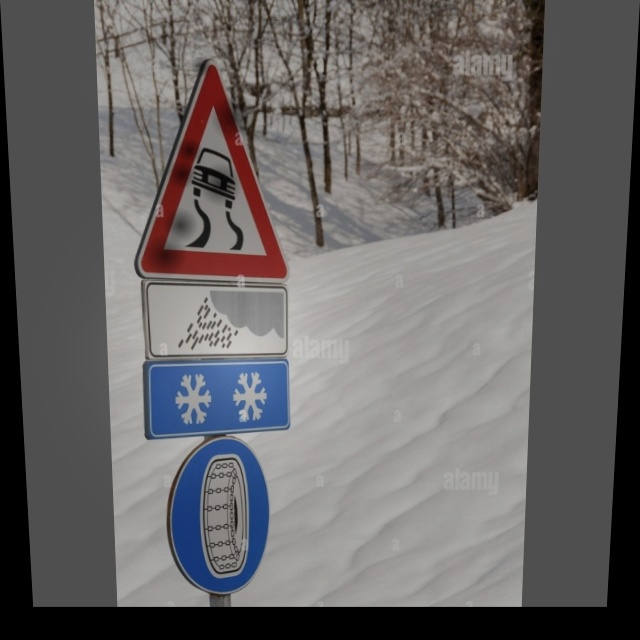Slippery_Road: (140, 57, 292, 282)
